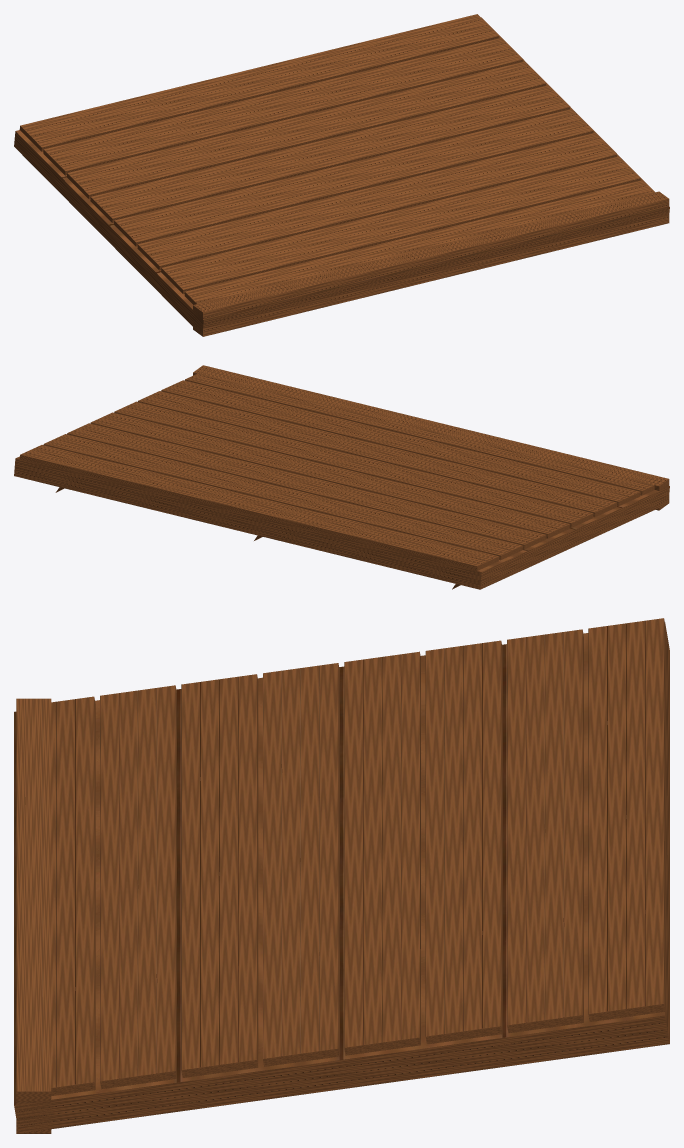
File: wild-west-frontier-town-porch-roof-section-0b4e063c__30130.glb
3 views of the same model, one above another, from view 1: azimuth 30°, elevation 25°; view 2: azimuth 150°, elevation 25°; view 3: azimuth 270°, elevation 25° (orthographic). The views are drawn at different scales.
Parts seen in each view (by area): view 1: porch-roof-section; view 2: porch-roof-section; view 3: porch-roof-section.
Boxes of the visible parts, x1,y1,x2,y2 form: porch-roof-section: (14,14,669,336); porch-roof-section: (14,365,669,589); porch-roof-section: (14,618,669,1133).
Size of the model in its own units: 3.2 by 0.4922 by 2.26.
Materials: 1 (1 with a texture image).
